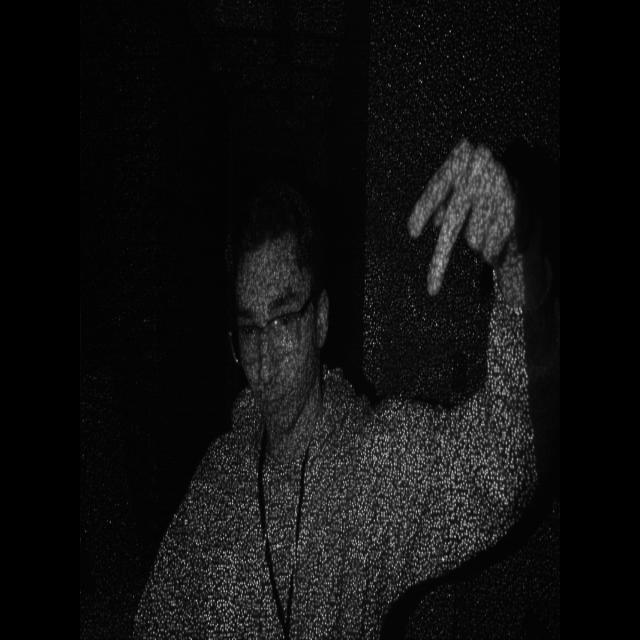P: (399, 120, 522, 312)
